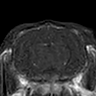Brain: (16, 29, 84, 77)
